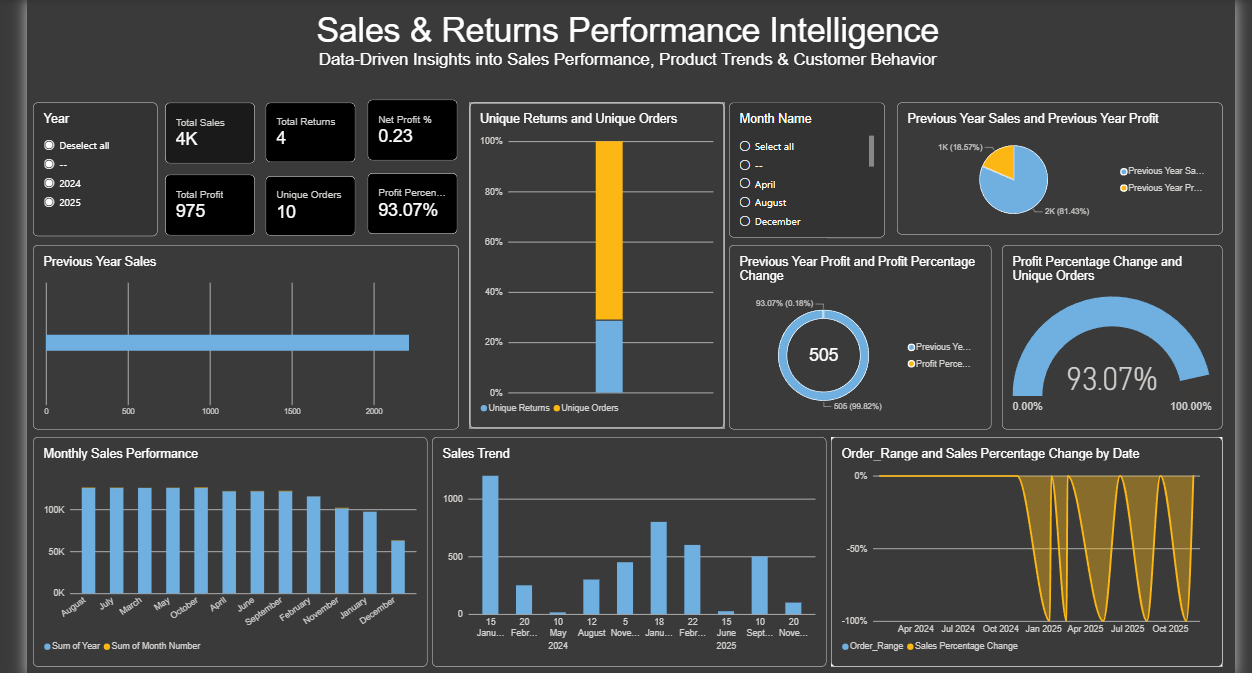

This screenshot's page, from the dashboard's own definition file:
{"tool":"powerbi","page":{"name":"Page 2","canvas":[1920,1080],"ordinal":0},"visuals":[{"type":"areaChart","fields":{"Category":["Calendar.Date"],"Y":["Sales.Measure","Sales.Sales Percentage Change"]},"box":[1278.9,696.7,622.7,365],"z":0},{"type":"barChart","fields":{"Y":["Sales.Previous Year Sales"]},"box":[9.5,391.3,677.6,293.5],"z":1000},{"type":"donutChart","fields":{"Y":["Sales.Previous Year Profit","Sales.Profit Percentage Change"]},"box":[1116.6,391.3,417.5,293.5],"z":2000},{"type":"hundredPercentStackedColumnChart","fields":{"Y":["Sales.Unique Returns","Sales.Unique Orders"]},"box":[703.8,164.6,405.6,517.7],"z":3000},{"type":"gauge","fields":{"Y":["Sales.Profit Percentage Change"]},"box":[1550.8,391.3,350.7,293.5],"z":4000},{"type":"pieChart","fields":{"Y":["Sales.Previous Year Sales","Sales.Previous Year Profit"]},"box":[1383.8,164.6,517.7,210],"z":5000},{"type":"columnChart","title":"Sales Trend","fields":{"Category":["Sales.Order Date.Variation.Date Hierarchy.Year","Sales.Order Date.Variation.Date Hierarchy.Month","Sales.Order Date.Variation.Date Hierarchy.Day"],"Y":["Sum(Sales.Sales)"]},"box":[644.2,696.7,627.5,365],"z":6000},{"type":"columnChart","title":"Monthly Sales Performance","fields":{"Category":["Calendar.Month Name"],"Y":["Sum(Calendar.Year)","Sum(Calendar.Month Number)"]},"box":[9.5,696.7,627.5,365],"z":7000},{"type":"cardVisual","fields":{"Data":["Sales.Total Sales"]},"box":[218.7,164.6,143.2,97.8],"z":8000},{"type":"cardVisual","fields":{"Data":["Sales.Total Profit"]},"box":[218.7,279.2,143.2,97.8],"z":9000},{"type":"cardVisual","fields":{"Data":["Sales.Net Profit %"]},"box":[540.8,159.9,143.2,97.8],"z":10000},{"type":"cardVisual","fields":{"Data":["Sales.Total Returns"]},"box":[378.6,164.6,143.2,95.4],"z":11000},{"type":"cardVisual","fields":{"Data":["Sales.Unique Orders"]},"box":[378.6,281.5,143.2,95.4],"z":12000},{"type":"areaChart","fields":{"Category":["Calendar.Date"],"Y":["Sales.Measure","Sales.Sales Percentage Change"]},"box":[1278.9,696.7,622.7,365],"z":13000},{"type":"textbox","box":[9.5,19.1,1892,119.3],"z":14000},{"type":"listSlicer","fields":{"Values":["Calendar.Month Name"]},"box":[1116.6,164.6,248.1,214.7],"z":15000},{"type":"cardVisual","fields":{"Data":["Sales.Profit Percentage Change"]},"box":[540.8,276.8,143.2,97.8],"z":16000},{"type":"listSlicer","title":" Year","fields":{"Values":["Calendar.Year"]},"box":[9.5,164.6,198,212.3],"z":17000}]}

Visuals, with their boxes on the page's 1920x1080 design canvas (x1, y1, x2, y2). These are canvas units, not pixel positions in the 1252x673 screenshot, which may show the page scaled, cropped or inside an application window:
areaChart - Calendar.Date x Sales.Measure: <bbox>1279, 697, 1902, 1062</bbox>
barChart - Sales.Previous Year Sales: <bbox>10, 391, 687, 685</bbox>
donutChart - Sales.Previous Year Profit x Sales.Profit Percentage Change: <bbox>1117, 391, 1534, 685</bbox>
hundredPercentStackedColumnChart - Sales.Unique Returns x Sales.Unique Orders: <bbox>704, 165, 1109, 682</bbox>
gauge - Sales.Profit Percentage Change: <bbox>1551, 391, 1902, 685</bbox>
pieChart - Sales.Previous Year Sales x Sales.Previous Year Profit: <bbox>1384, 165, 1902, 375</bbox>
"Sales Trend" columnChart: <bbox>644, 697, 1272, 1062</bbox>
"Monthly Sales Performance" columnChart: <bbox>10, 697, 637, 1062</bbox>
cardVisual - Sales.Total Sales: <bbox>219, 165, 362, 262</bbox>
cardVisual - Sales.Total Profit: <bbox>219, 279, 362, 377</bbox>
cardVisual - Sales.Net Profit %: <bbox>541, 160, 684, 258</bbox>
cardVisual - Sales.Total Returns: <bbox>379, 165, 522, 260</bbox>
cardVisual - Sales.Unique Orders: <bbox>379, 282, 522, 377</bbox>
areaChart - Calendar.Date x Sales.Measure: <bbox>1279, 697, 1902, 1062</bbox>
textbox: <bbox>10, 19, 1902, 138</bbox>
listSlicer - Calendar.Month Name: <bbox>1117, 165, 1365, 379</bbox>
cardVisual - Sales.Profit Percentage Change: <bbox>541, 277, 684, 375</bbox>
" Year" listSlicer: <bbox>10, 165, 208, 377</bbox>
